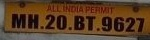character: (11, 13, 27, 29), (27, 12, 39, 29), (73, 14, 85, 31), (44, 13, 56, 29), (113, 16, 125, 32), (56, 14, 67, 31), (125, 16, 136, 33), (85, 15, 96, 31), (101, 16, 112, 31), (135, 17, 145, 33)
